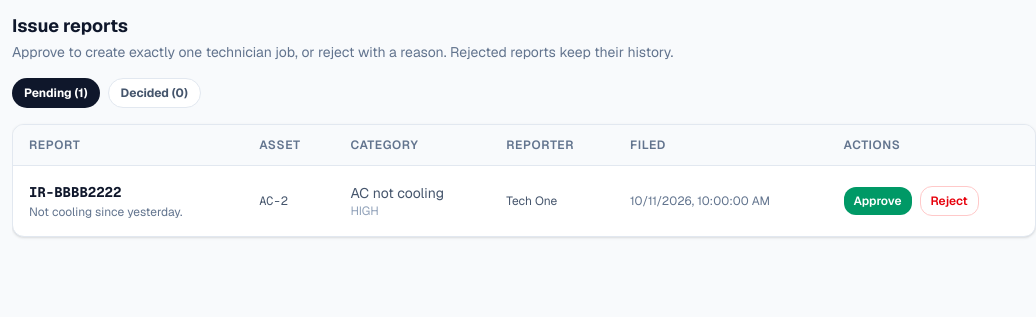
Test: IssueApprovals › confirms before approving and reports the queued job
Expected: the text "IR-BBBB2222" is shown, [29,183,121,201]
What coordinates should you click on to do the following:
click the button "Approve"
I would click on:
 (878, 201)
Its box is [844,187,912,215].
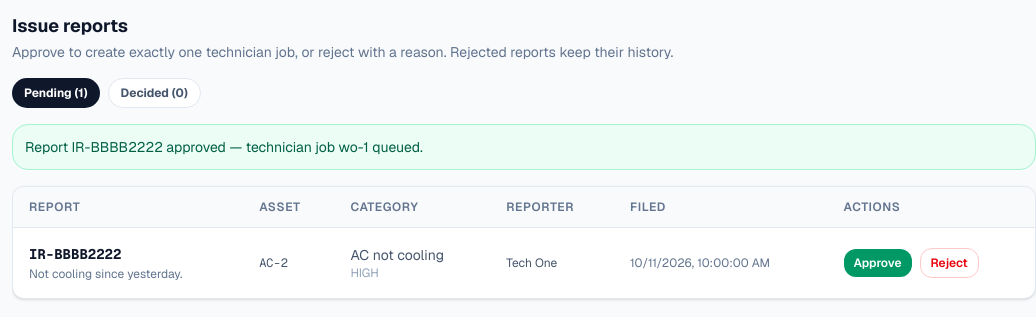
Expected: the text "Report IR-BBBB2222 approved — technician job wo-1 queued." is shown, [12,124,1035,170]
